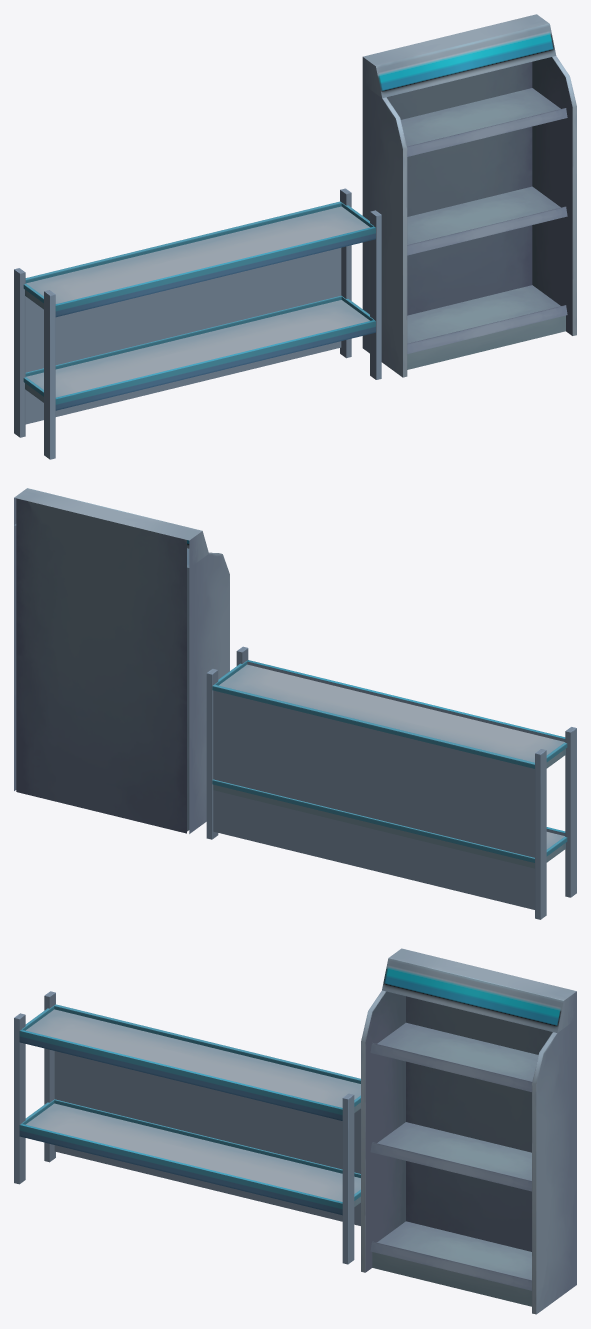
File: Stands.fbx
3 renders of one model, top to bottom at view 1: azimuth 30°, elevation 25°; view 2: azimuth 150°, elevation 25°; view 3: azimuth 330°, elevation 25°, orthographic.
Visible parts, largest first — view 1: DisplayStand_Drink, DisplayStand_Snack; view 2: DisplayStand_Snack, DisplayStand_Drink; view 3: DisplayStand_Drink, DisplayStand_Snack.
Part boxes in pixels (x1,y1,x2,y2): DisplayStand_Drink: (362,14,576,377); DisplayStand_Snack: (14,188,381,459); DisplayStand_Snack: (206,646,576,919); DisplayStand_Drink: (14,488,229,833); DisplayStand_Drink: (361,948,576,1314); DisplayStand_Snack: (14,991,360,1264).
Bounding box in the file's own units: 480 × 256 × 64.
